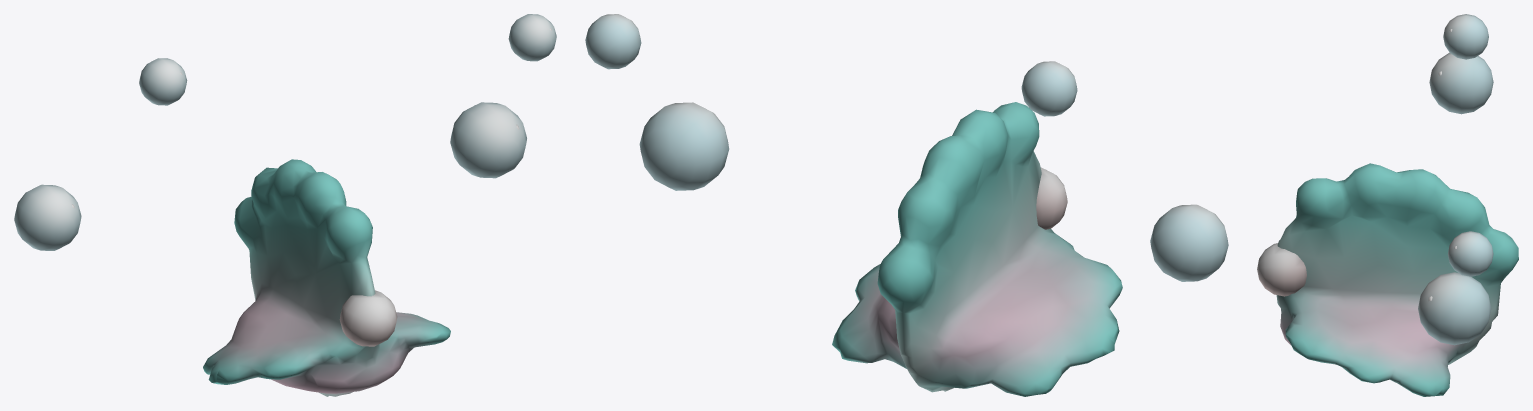
The model's file is water-back.glb.
3 renders of one model, left to right at view 1: azimuth 30°, elevation 25°; view 2: azimuth 150°, elevation 25°; view 3: azimuth 270°, elevation 25°, orthographic. The views are drawn at different scales.
Parts seen in each view (by area): view 1: water-back; view 2: water-back; view 3: water-back.
Boxes of the visible parts, x1,y1,x2,y2 form: water-back: (14,14,556,396); water-back: (585,14,1228,396); water-back: (1257,14,1518,396).
Size of the model in its own units: 0.444 by 0.2554 by 0.1974.
